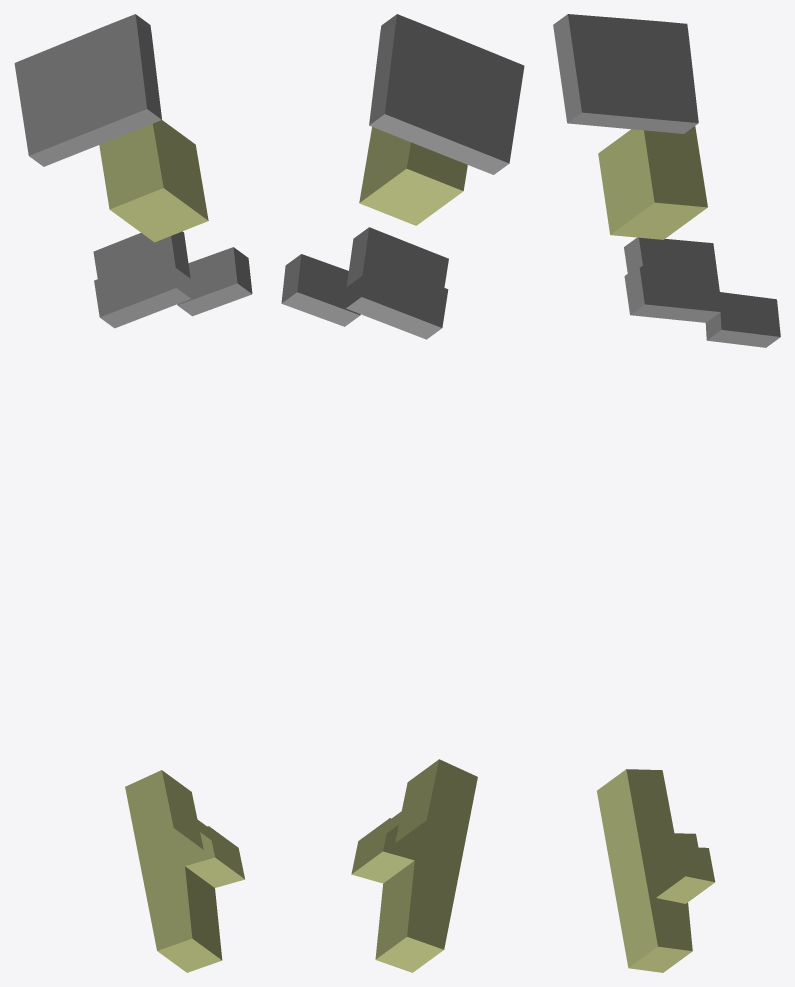
3 views of the same model, side by side, from view 1: azimuth 30°, elevation 25°; view 2: azimuth 150°, elevation 25°; view 3: azimuth 330°, elevation 25° (orthographic). The views are drawn at different scales.
Parts seen in each view (by area): view 1: 0_1_3_2_1_2_2_1; view 2: 0_1_3_2_1_2_2_1; view 3: 0_1_3_2_1_2_2_1.
Part boxes in pixels (box(x1,y1,x2,y2)): 0_1_3_2_1_2_2_1: box(14, 14, 252, 972); 0_1_3_2_1_2_2_1: box(281, 14, 524, 972); 0_1_3_2_1_2_2_1: box(553, 14, 780, 972).
Size of the model in its own units: 25.33 by 101 by 11.13.
